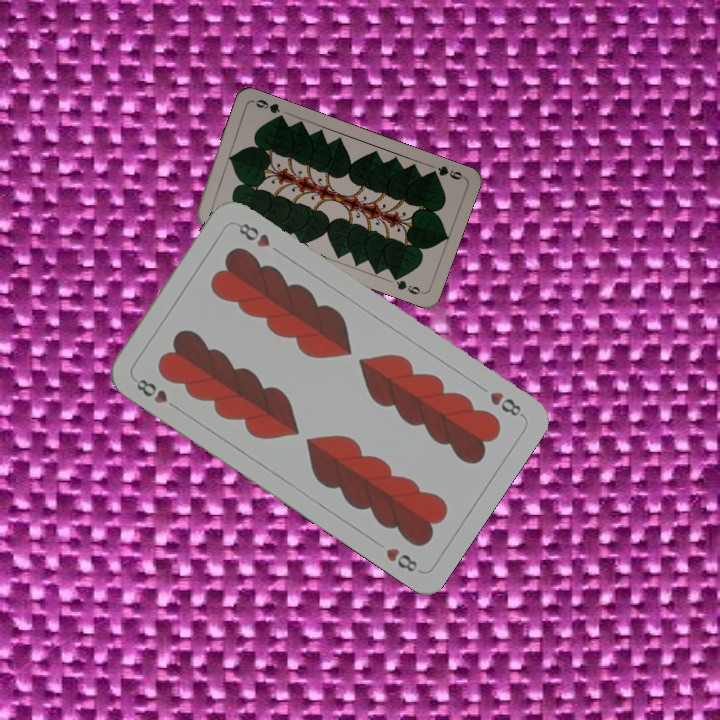G9: (425, 162, 466, 182)
H8: (132, 374, 182, 413), (485, 387, 526, 419)
